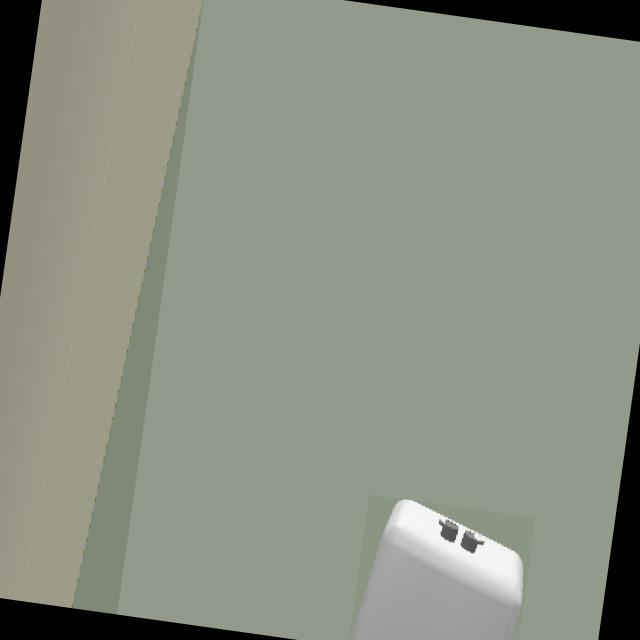toilet: (350, 500, 525, 640)
